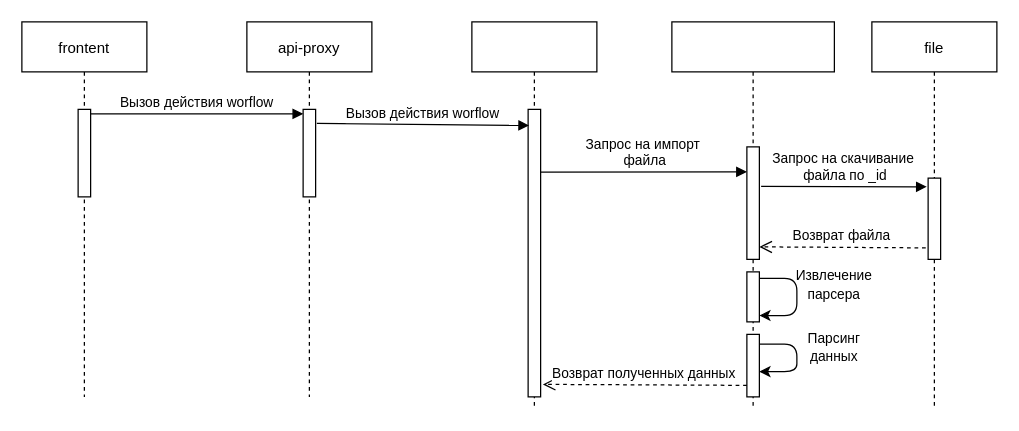
This 1019x431 diagram has some shape labels left out. The shapes that lost their labels are listed below. From the top down, each one's box as (x1, y1, x2, y2) in pixels, then its label:
(471, 21, 597, 409): workflow-api
(671, 21, 834, 409): document-service
